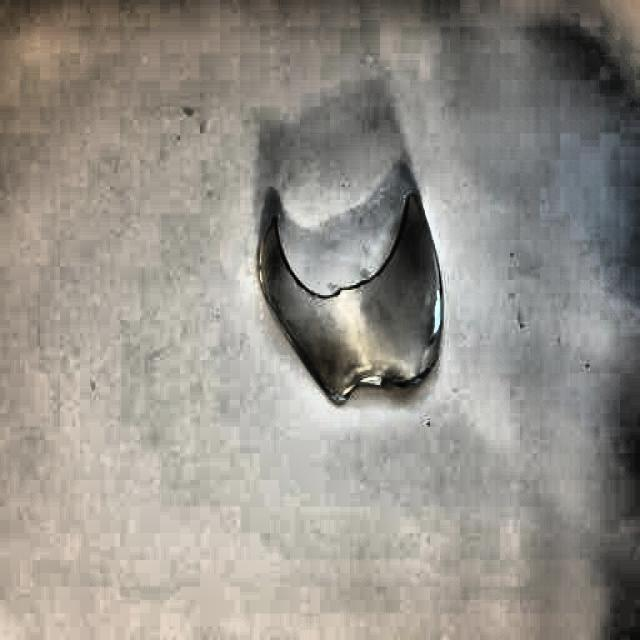glass: (254, 194, 445, 409)
